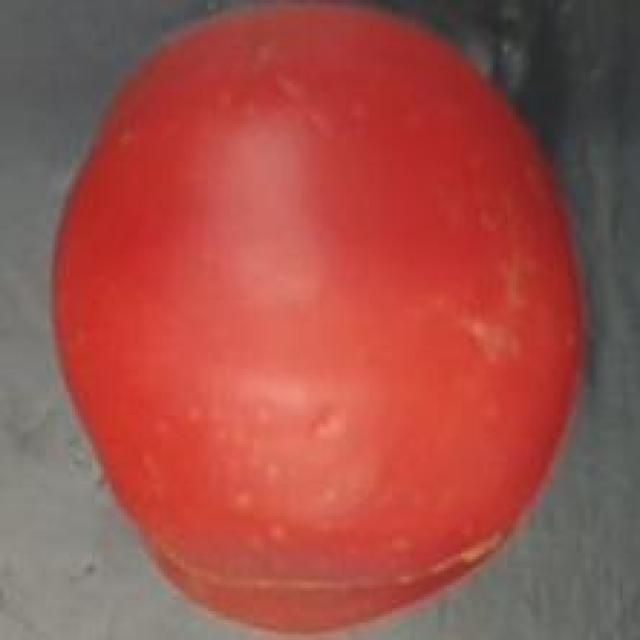overripe tomato: (40, 3, 594, 640)
